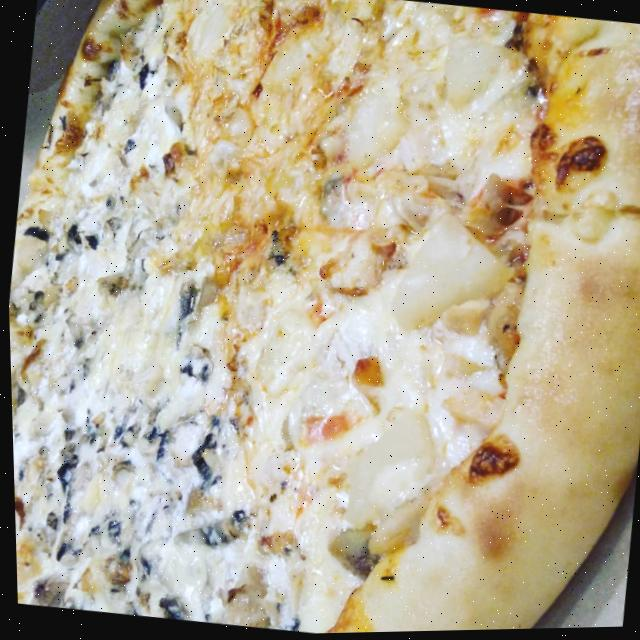mushrooms: (174, 340, 213, 383)
pizza: (0, 0, 640, 640)
